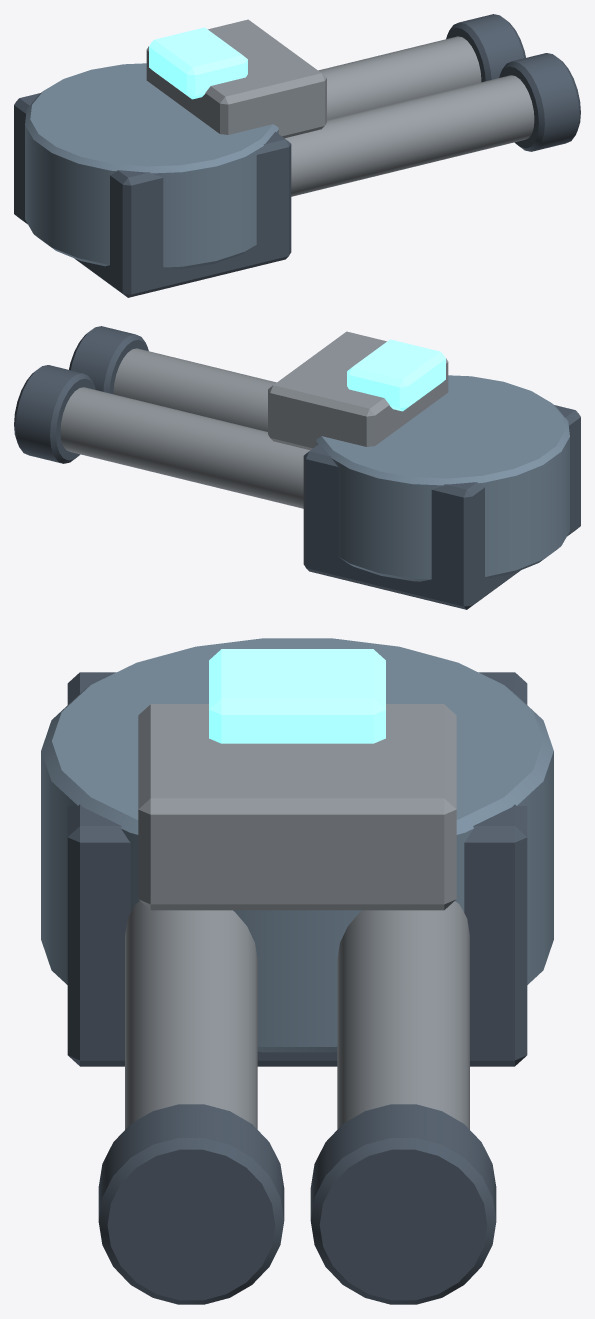
File: gun_turret_l1.glb
The picture shows the model from 3 angles, top to bottom: view 1: azimuth 30°, elevation 25°; view 2: azimuth 150°, elevation 25°; view 3: azimuth 270°, elevation 25°; orthographic projection. The views are drawn at different scales.
Visible parts, largest first — view 1: Cylinder, Cylinder.001, Cube, Cube.001, Cylinder.003, Cylinder.002, Cube.002, Cylinder.004; view 2: Cylinder, Cylinder.003, Cube, Cube.001, Cylinder.001, Cylinder.004, Cube.002, Cylinder.002; view 3: Cube.001, Cylinder, Cube, Cylinder.002, Cylinder.004, Cylinder.001, Cylinder.003, Cube.002.
Boxes of the visible parts, x1,y1,x2,y2 form: Cylinder: (25,63,278,269); Cylinder.001: (285,75,534,196); Cube: (14,93,291,297); Cube.001: (146,19,326,138); Cylinder.003: (318,36,481,119); Cylinder.002: (499,53,580,151); Cube.002: (149,27,247,99); Cylinder.004: (446,14,525,82); Cylinder: (316,375,569,581); Cylinder.003: (60,387,309,508); Cube: (303,405,580,609); Cube.001: (268,331,448,450); Cylinder.001: (113,348,276,431); Cylinder.004: (14,365,95,463); Cube.002: (347,339,445,411); Cylinder.002: (69,326,148,394); Cube.001: (138,704,456,910); Cylinder: (41,638,553,1052); Cube: (67,672,527,1066); Cylinder.002: (98,1104,284,1304); Cylinder.004: (310,1104,496,1304); Cylinder.001: (125,901,257,1129); Cylinder.003: (337,901,469,1129); Cube.002: (209,649,385,743).
Bounding box in the file's own units: 1.28 × 0.45 × 0.58.
